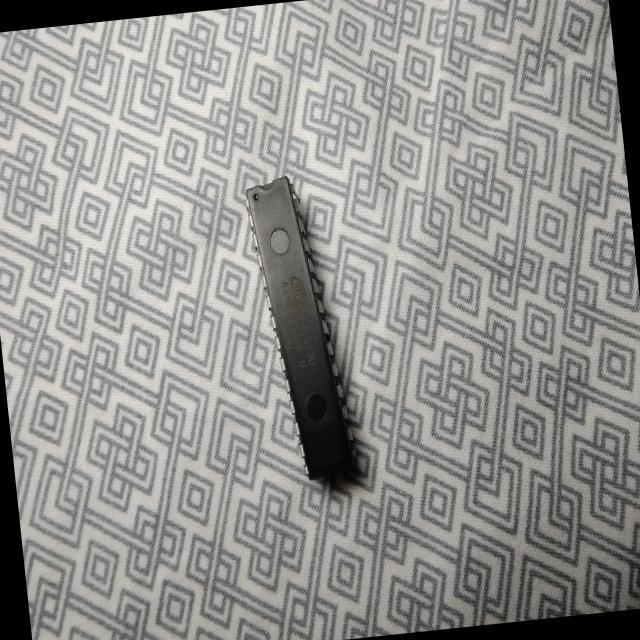atmega: (240, 168, 362, 488)
